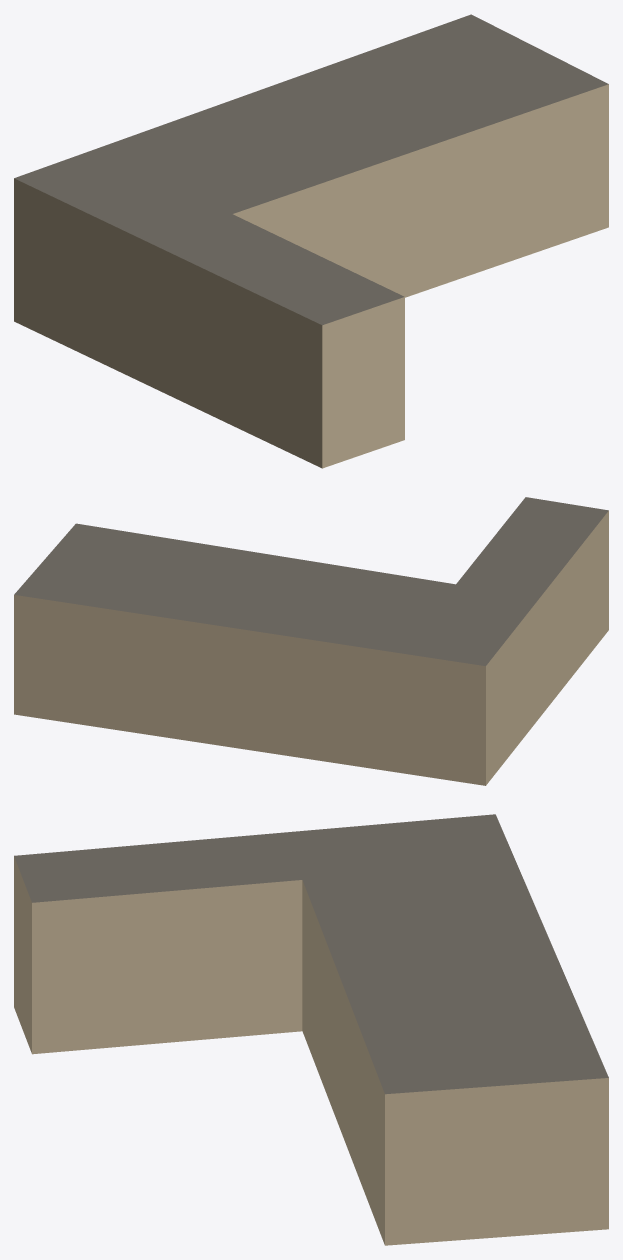
3 renders of one model, top to bottom at view 1: azimuth 30°, elevation 25°; view 2: azimuth 150°, elevation 25°; view 3: azimuth 270°, elevation 25°, orthographic. The views are drawn at different scales.
Visible parts, largest first — view 1: HP-w300651710; view 2: HP-w300651710; view 3: HP-w300651710.
Part boxes in pixels (x1=…): HP-w300651710: x1=14, y1=14, x2=608, y2=468; HP-w300651710: x1=14, y1=497, x2=608, y2=785; HP-w300651710: x1=14, y1=814, x2=608, y2=1245.
Size of the model in its own units: 65.42 by 16.5 by 58.75.
